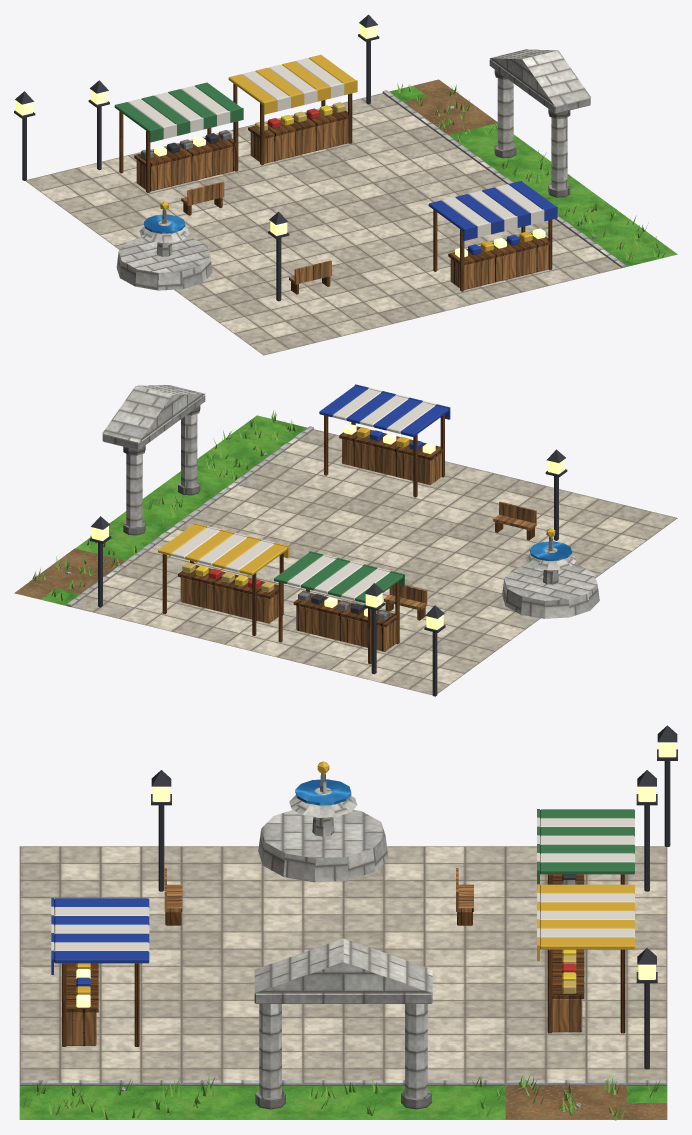
The model's file is chunk_6_11.glb.
3 renders of one model, top to bottom at view 1: azimuth 30°, elevation 25°; view 2: azimuth 150°, elevation 25°; view 3: azimuth 270°, elevation 25°, orthographic. The views are drawn at different scales.
Visible parts, largest first — view 1: chunk_6_11; view 2: chunk_6_11; view 3: chunk_6_11.
Part boxes in pixels (x1,y1,x2,y2): chunk_6_11: (14,14,677,355); chunk_6_11: (14,384,677,696); chunk_6_11: (19,725,677,1120).
Bounding box in the file's own units: 17.19 × 4.35 × 16.4.
Materials: 20 (10 with a texture image).
